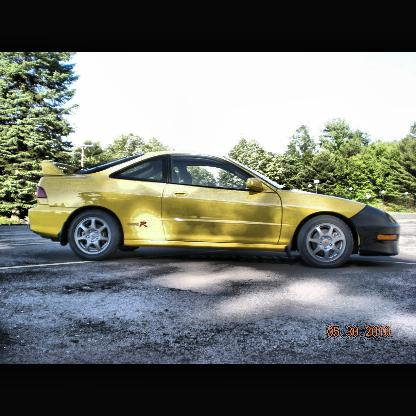Acura Integra Type R 2001: (30, 153, 400, 270)
